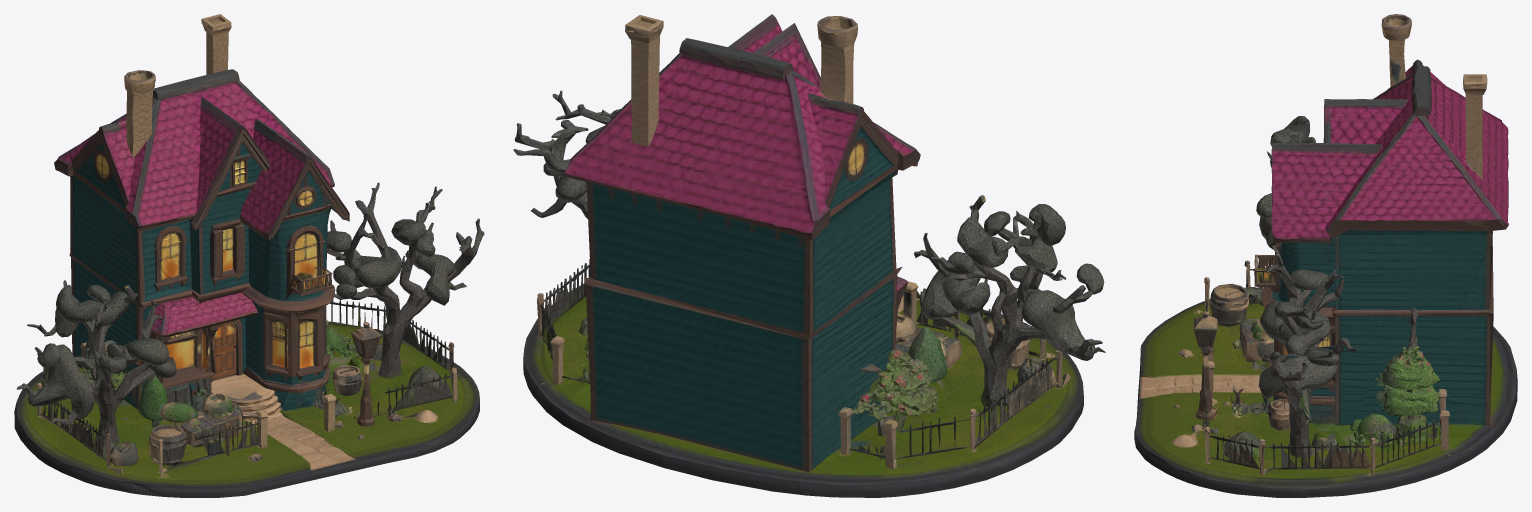
Rendered from a3_lovecraft_house.glb.
3 renders of one model, left to right at view 1: azimuth 30°, elevation 25°; view 2: azimuth 150°, elevation 25°; view 3: azimuth 270°, elevation 25°, orthographic. The views are drawn at different scales.
Bounding box in the file's own units: 1.89 × 1.27 × 1.29.
1 material, 1 textured.
